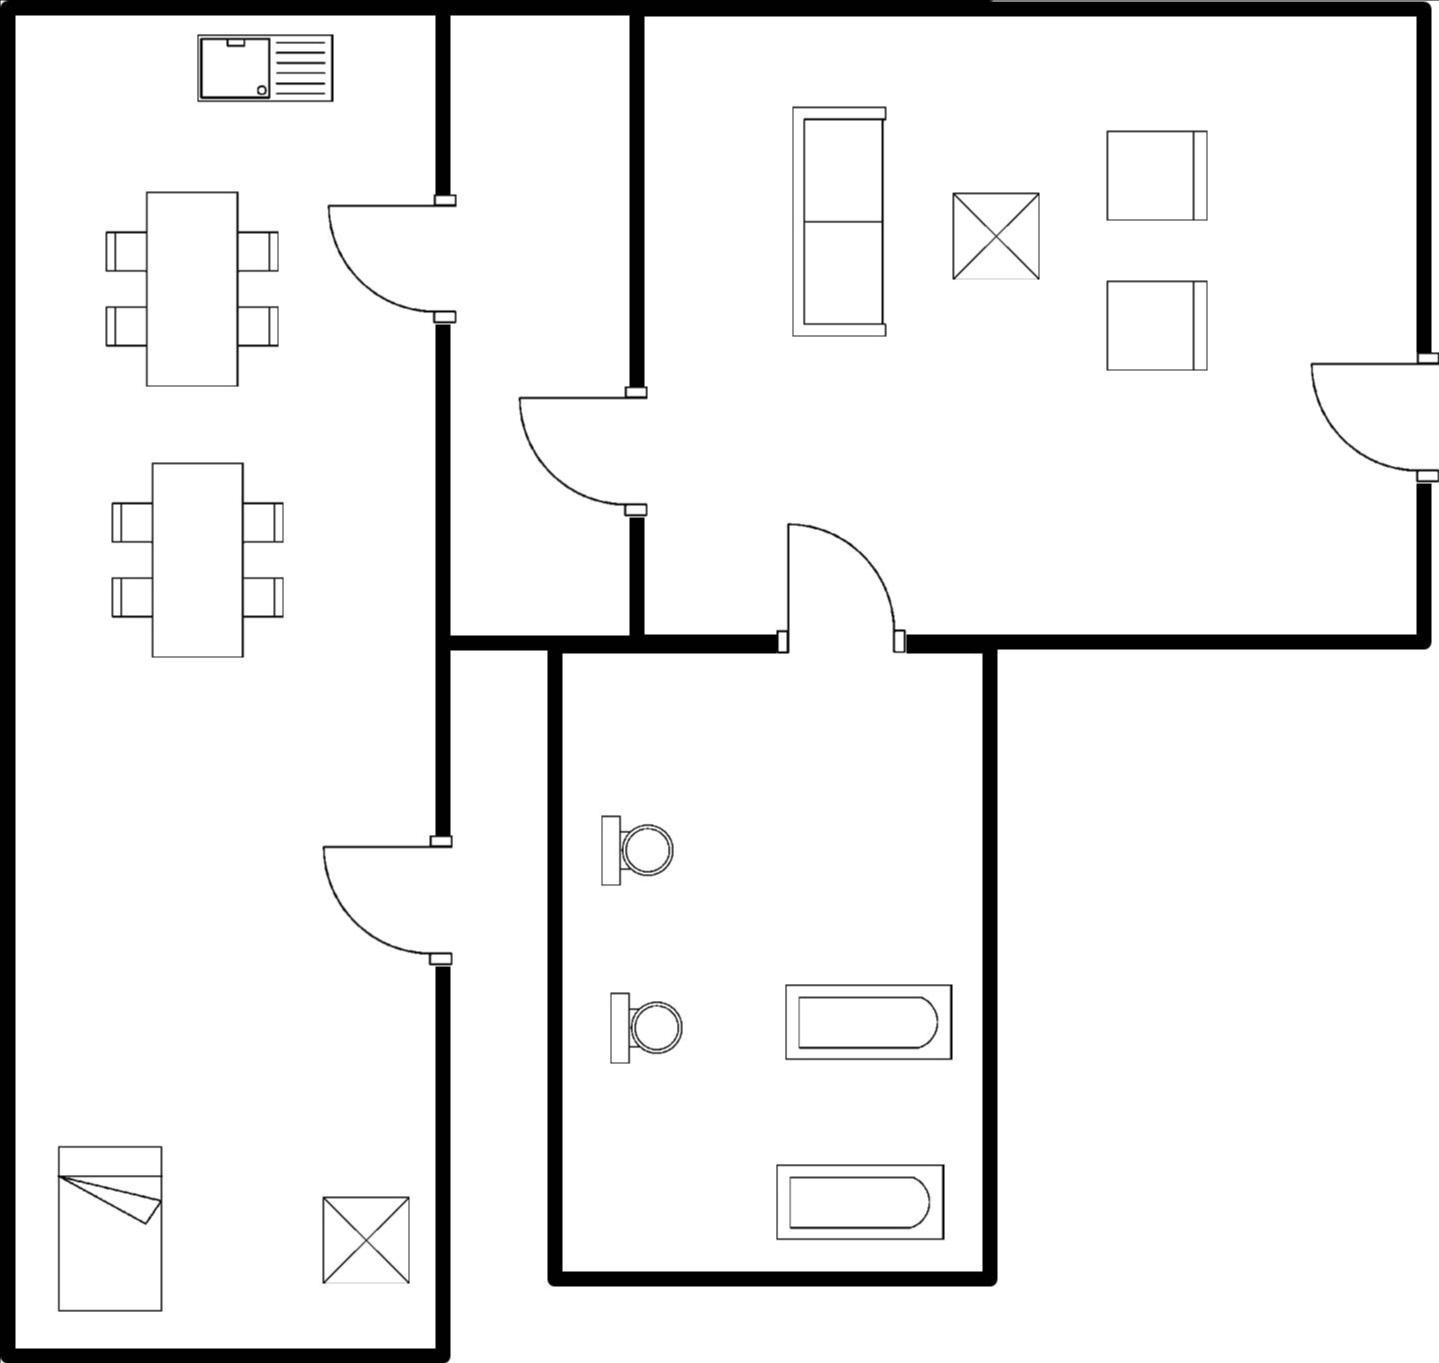bed: (44, 1132, 178, 1321)
dining_table: (94, 172, 292, 401), (103, 447, 296, 671)
sink: (183, 20, 349, 119)
sofa: (782, 91, 900, 351)
toilet: (602, 977, 696, 1075), (591, 808, 679, 901)
tub: (762, 1152, 956, 1252), (777, 974, 966, 1072)
